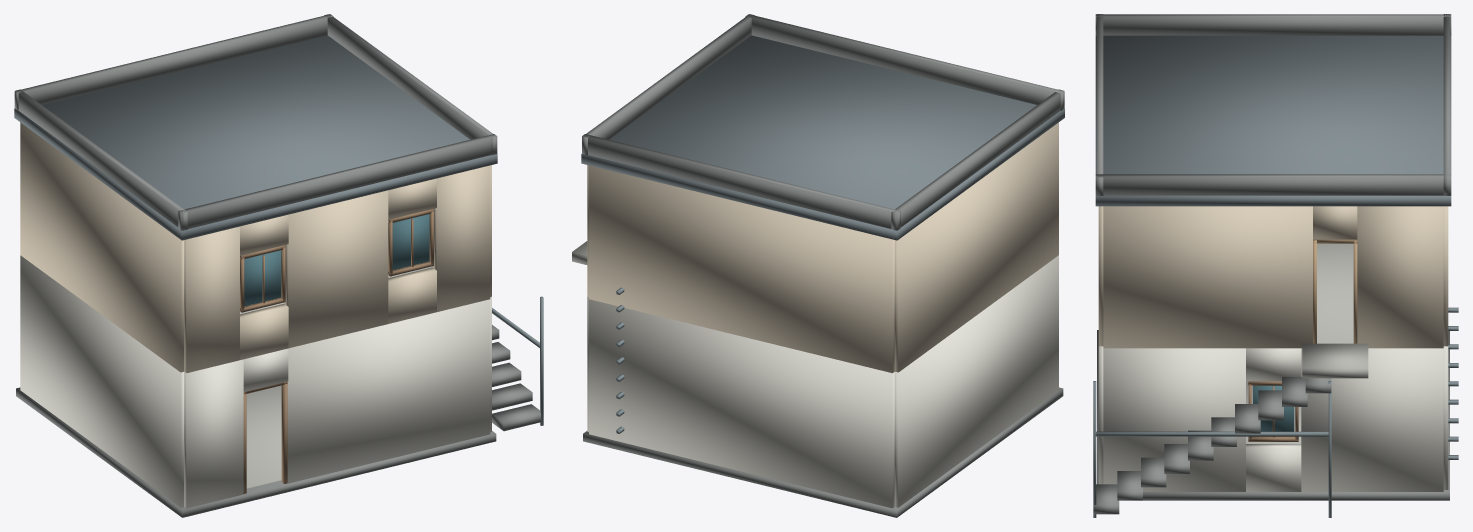
The model's file is house.glb.
The picture shows the model from 3 angles, left to right: view 1: azimuth 30°, elevation 25°; view 2: azimuth 150°, elevation 25°; view 3: azimuth 270°, elevation 25°; orthographic projection. The views are drawn at different scales.
Visible parts, largest first — view 1: COL__house; view 2: COL__house; view 3: COL__house.
Boxes of the visible parts, <box> form: COL__house: <box>14,14,543,517</box>; COL__house: <box>572,14,1064,517</box>; COL__house: <box>1093,14,1458,517</box>.
Size of the model in its own units: 11 by 8.8 by 9.
